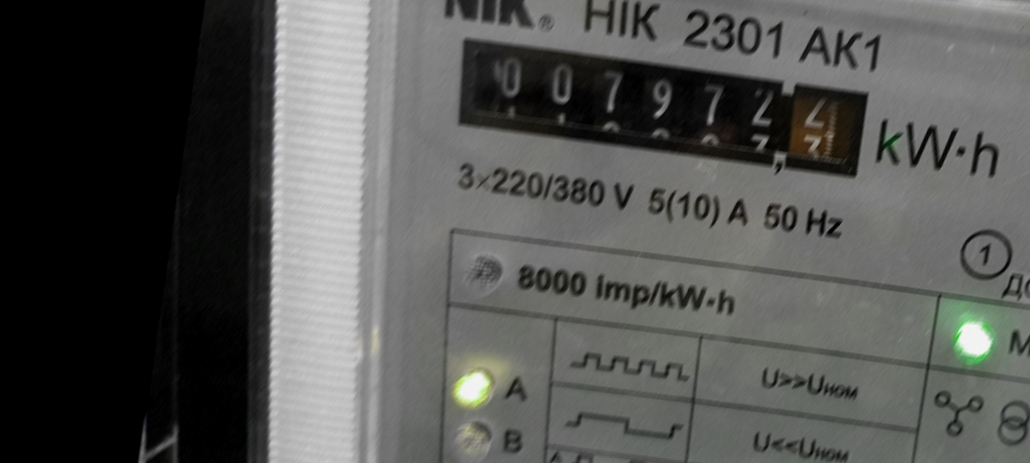0: (494, 53, 525, 97), (545, 59, 575, 104)
2: (747, 86, 775, 127), (799, 93, 826, 130)
3: (797, 131, 822, 159)
7: (694, 79, 726, 128), (594, 66, 624, 114)
9: (644, 73, 673, 119)
screen: (432, 20, 885, 196)
